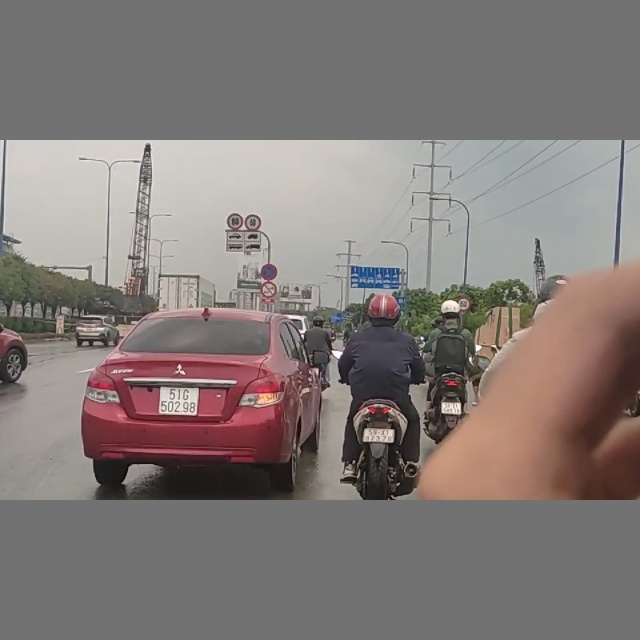P.130: (260, 263, 278, 280)
